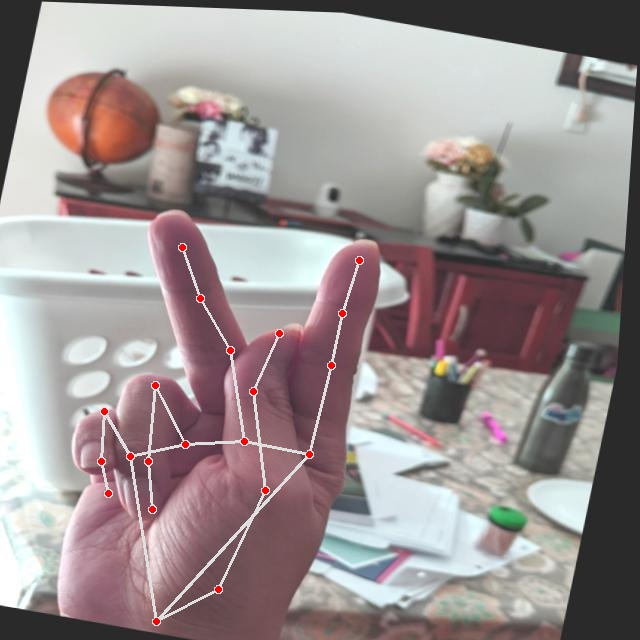K: (33, 183, 414, 639)
